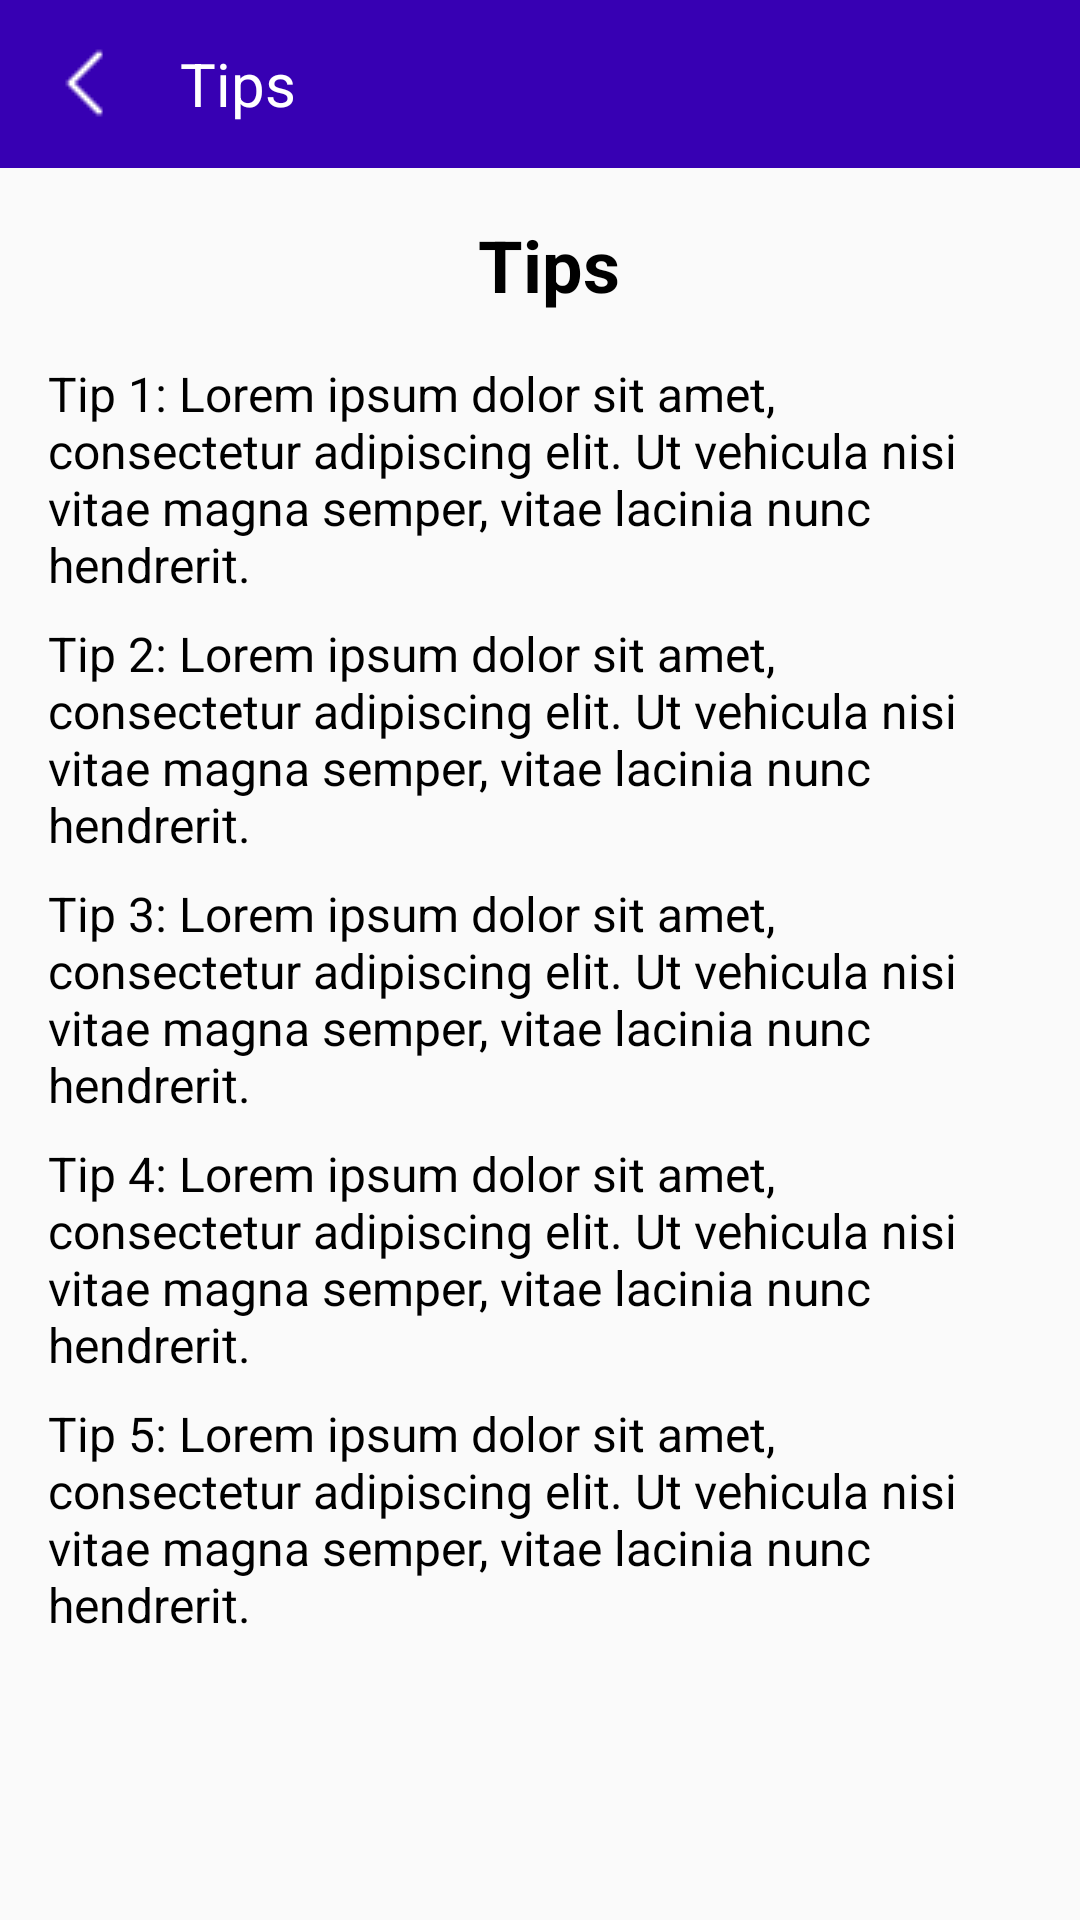

Icons on this 1080px×1920px Android screen, each with the point to tap as point (x, y):
left arrow: point (84, 83)
